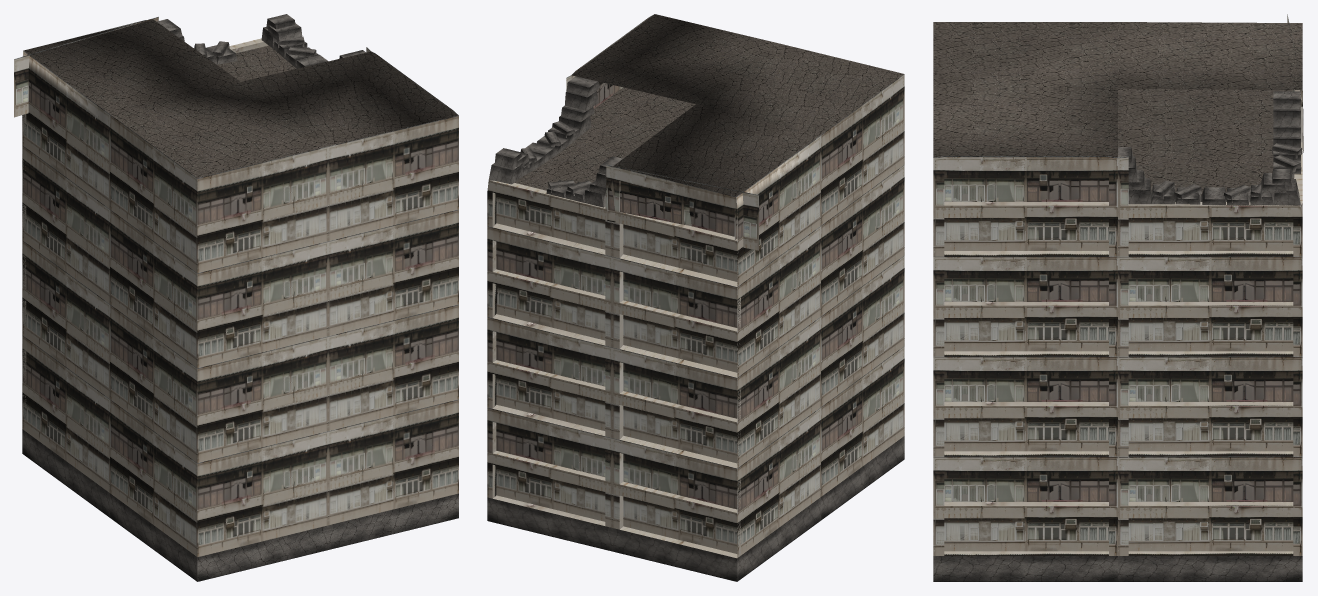
The model's file is High_house_02.FBX.
3 renders of one model, left to right at view 1: azimuth 30°, elevation 25°; view 2: azimuth 150°, elevation 25°; view 3: azimuth 270°, elevation 25°, orthographic. The views are drawn at different scales.
Visible parts, largest first — view 1: High_house_002; view 2: High_house_002; view 3: High_house_002.
Part boxes in pixels (left/top/right/bottom): High_house_002: left=14, top=14, right=458, bottom=581; High_house_002: left=487, top=14, right=904, bottom=581; High_house_002: left=933, top=14, right=1303, bottom=581.
Size of the model in its own units: 8.31 by 11.58 by 9.12.
